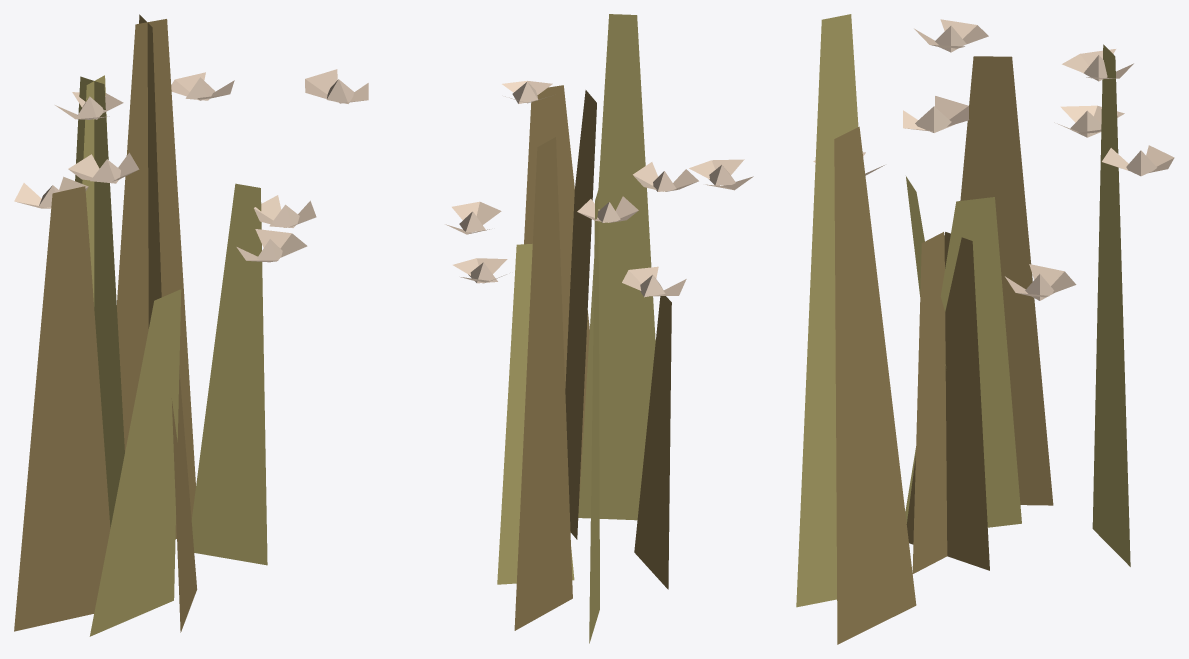
File: nong.dao@flowering__autumn.glb
3 views of the same model, side by side, from view 1: azimuth 30°, elevation 25°; view 2: azimuth 150°, elevation 25°; view 3: azimuth 270°, elevation 25° (orthographic). The views are drawn at different scales.
Visible parts, largest first — view 1: nong.dao@flowering__autumn; view 2: nong.dao@flowering__autumn; view 3: nong.dao@flowering__autumn.
Part boxes in pixels (x1,y1,x2,y2): nong.dao@flowering__autumn: (14, 14, 368, 636); nong.dao@flowering__autumn: (445, 14, 753, 643); nong.dao@flowering__autumn: (796, 14, 1174, 644).
Size of the model in its own units: 0.628 by 1.02 by 0.6056.
